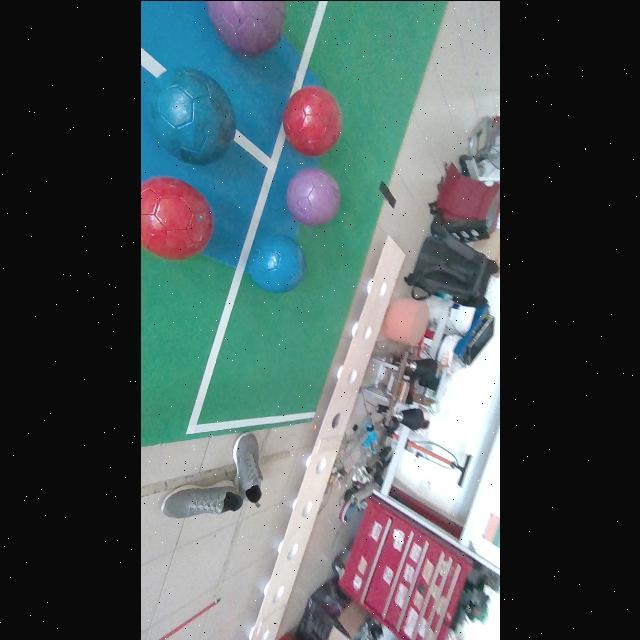B: (151, 66, 235, 165), (246, 235, 306, 293)
P: (206, 0, 285, 57), (286, 167, 340, 225)
R: (140, 176, 213, 260), (282, 85, 342, 156)
